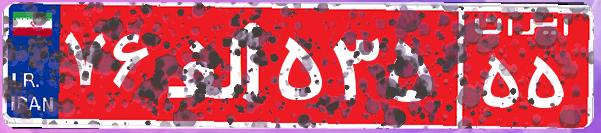3: (330, 28, 385, 110)
5: (385, 28, 445, 110), (273, 28, 330, 110), (475, 38, 525, 113), (525, 38, 570, 115)
6: (110, 28, 158, 105)
7: (57, 26, 110, 107)
الف: (158, 15, 273, 115)
